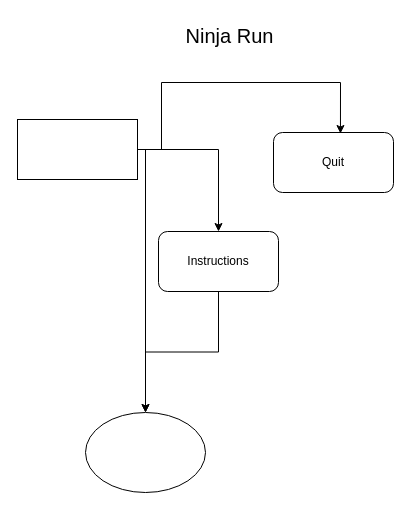
Some shapes in this 411 by 510 pixel diagram are drawn without their labels. The box of each missing label's shape, as (x1, y1, x2, y2) in pixels:
Splash Screen: (16, 118, 138, 180)
Start: (84, 412, 206, 492)
